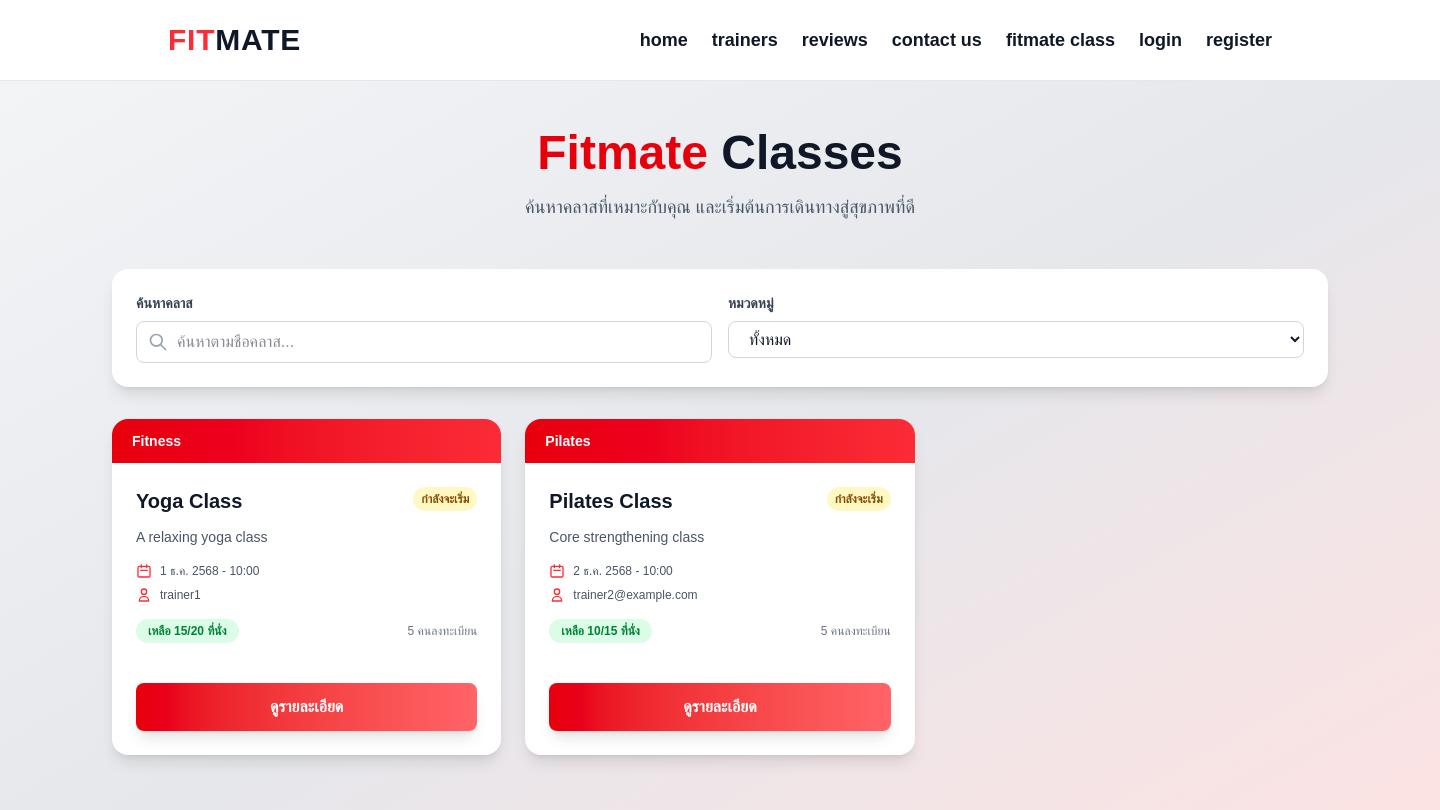
Test: ClassListPage › clears filters when clear button is clicked
The image size is (1440, 810).
Expected: the heading "Yoga Class" is shown, [136, 490, 242, 512]
Type "Yoga" into the field with placeholder "ค้นหาตามชื่อคลาส..." at point(424, 342), box [136, 321, 712, 363]
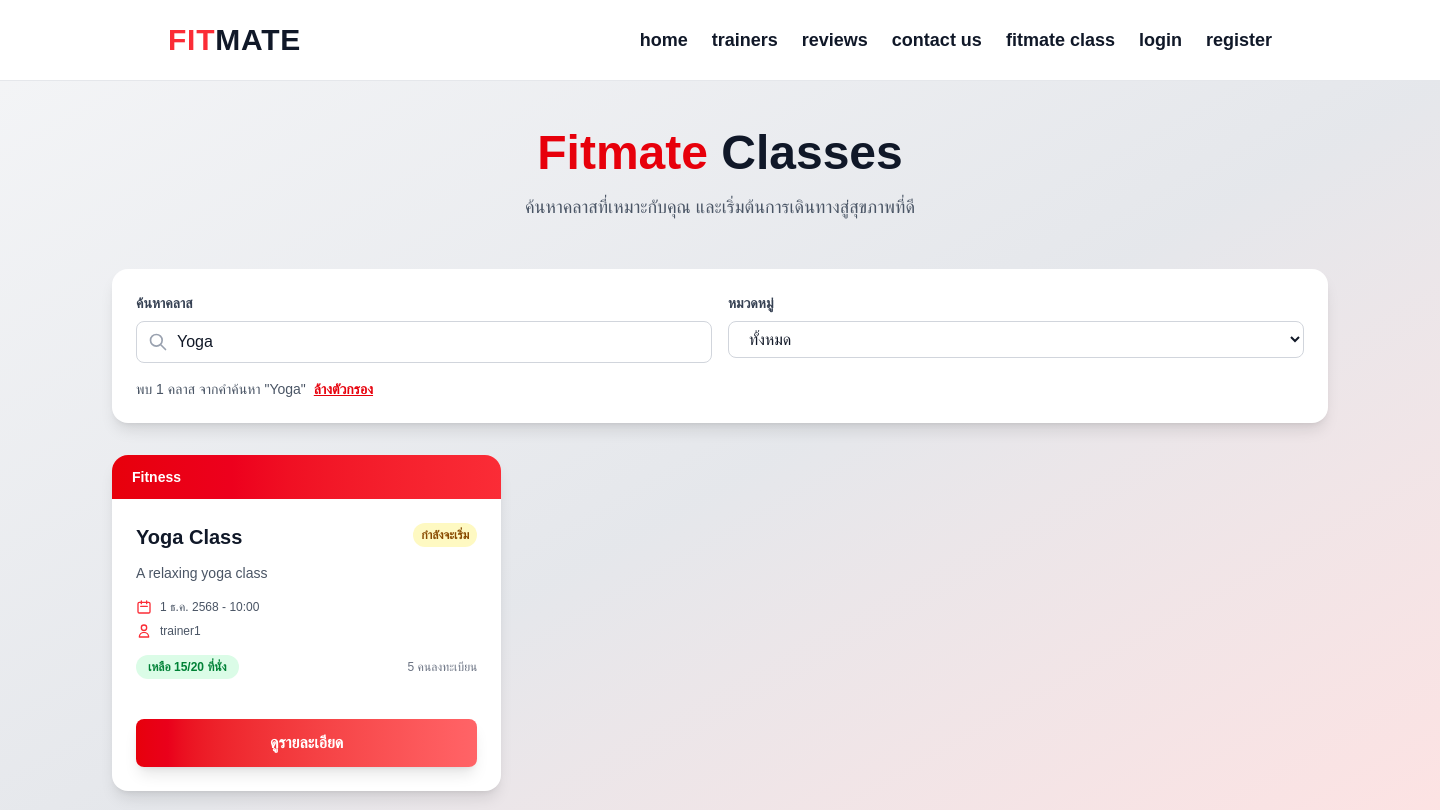
Expected: the button "ล้างตัวกรอง" is shown
Click the button "ล้างตัวกรอง" at point(343, 389), box [314, 379, 373, 399]
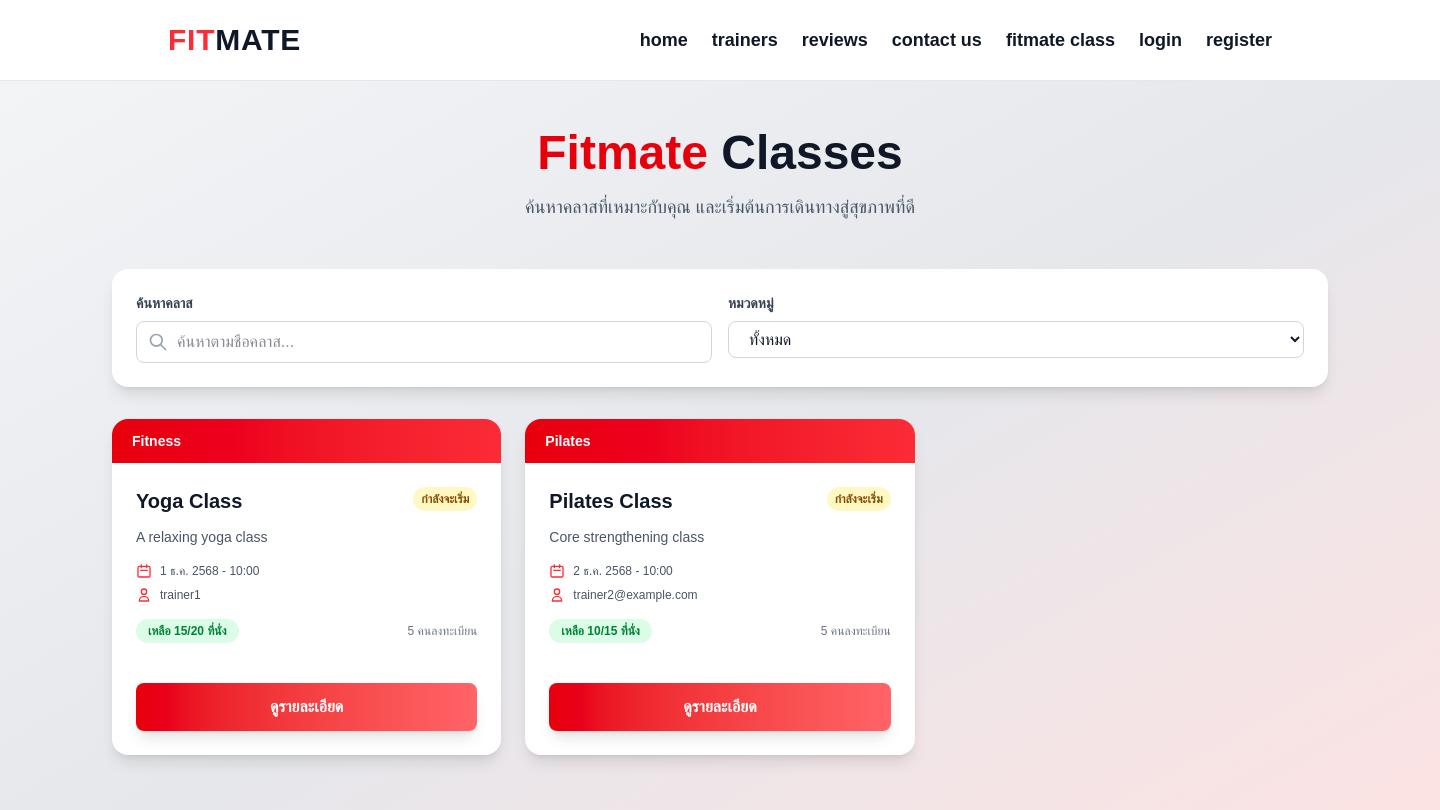
Expected: the heading "Yoga Class" is shown, [136, 490, 242, 512]
Expected: the heading "Pilates Class" is shown, [549, 490, 673, 512]
